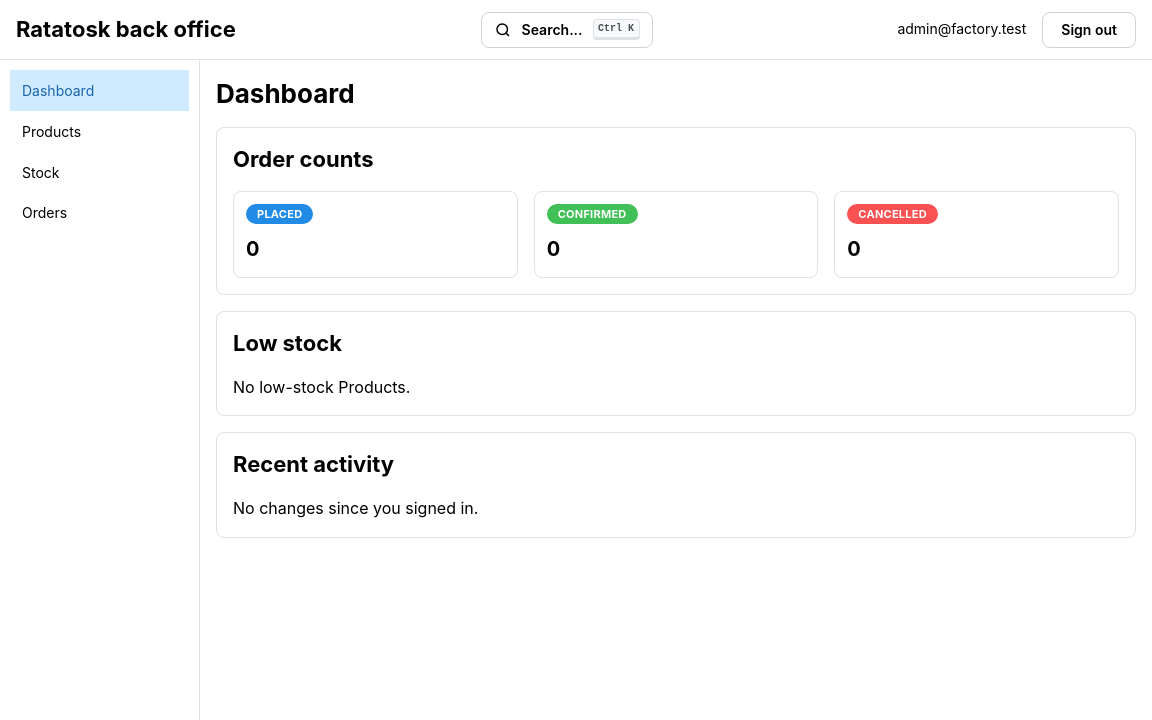
Test case: App › switches between the Dashboard, Products and Stock screens from the navbar
Click the button "Products": (100, 131) top-left (10, 111), bottom-right (189, 152)
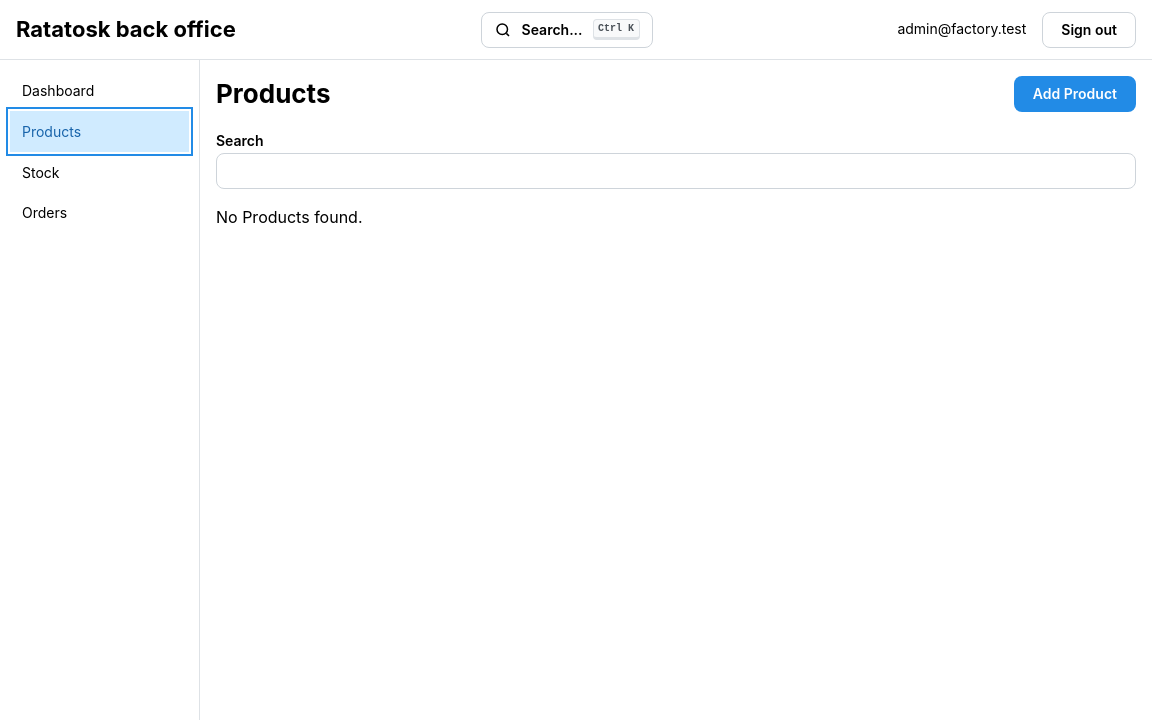
Result: the heading "Products" is shown at top-left (216, 76), bottom-right (330, 112)
Click the button "Stock": (100, 172) top-left (10, 152), bottom-right (189, 192)
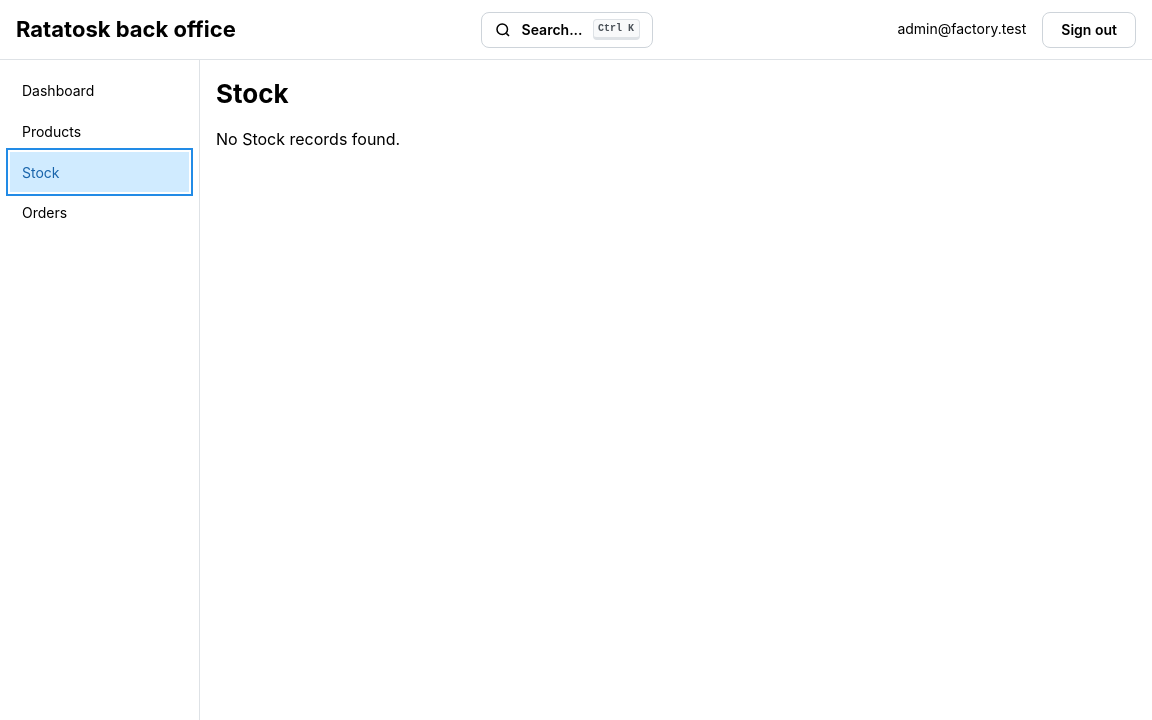
Result: the heading "Stock" is shown at top-left (216, 78), bottom-right (289, 109)
Result: the text "No Stock records found." is shown at top-left (216, 129), bottom-right (400, 149)
Click the button "Products": (100, 131) top-left (10, 111), bottom-right (189, 152)
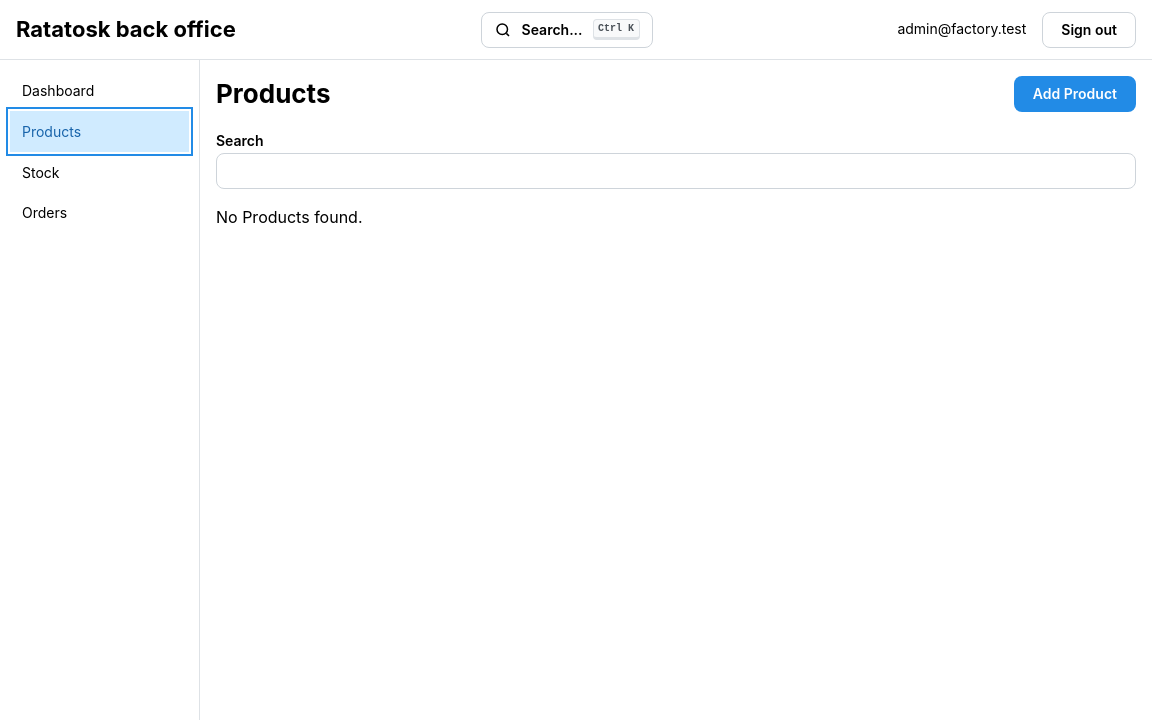
Result: the heading "Products" is shown at top-left (216, 76), bottom-right (330, 112)
Click the button "Dashboard": (100, 90) top-left (10, 70), bottom-right (189, 111)
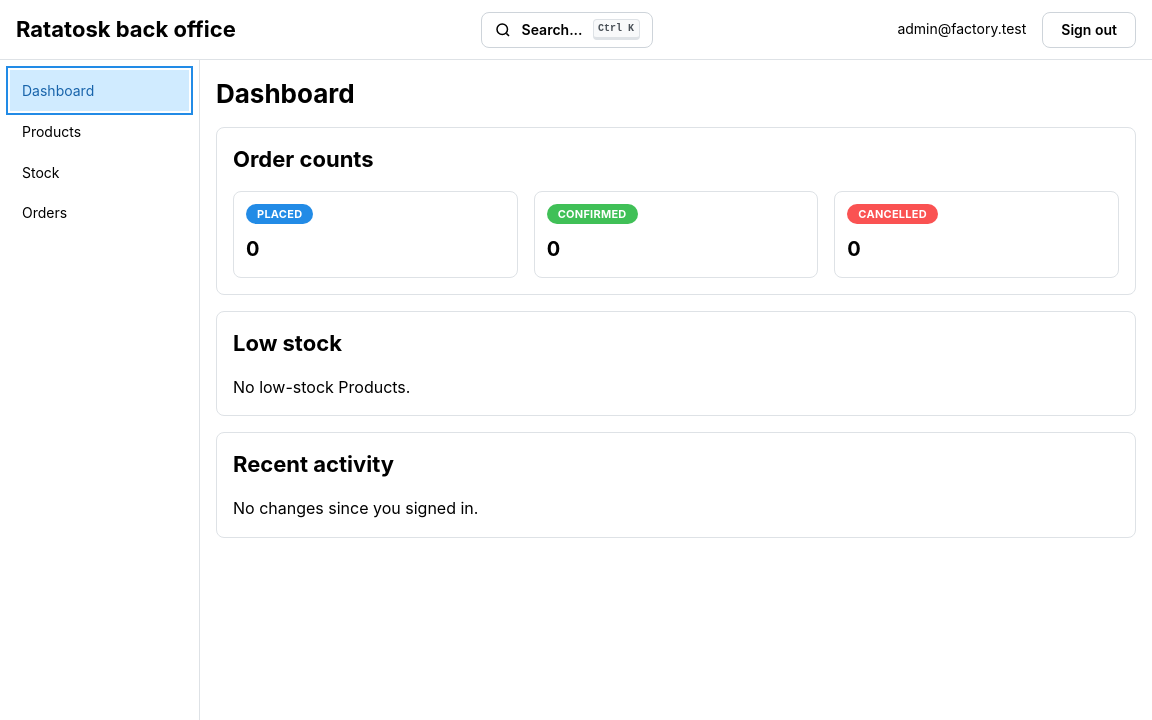
Result: the heading "Dashboard" is shown at top-left (216, 78), bottom-right (355, 109)
